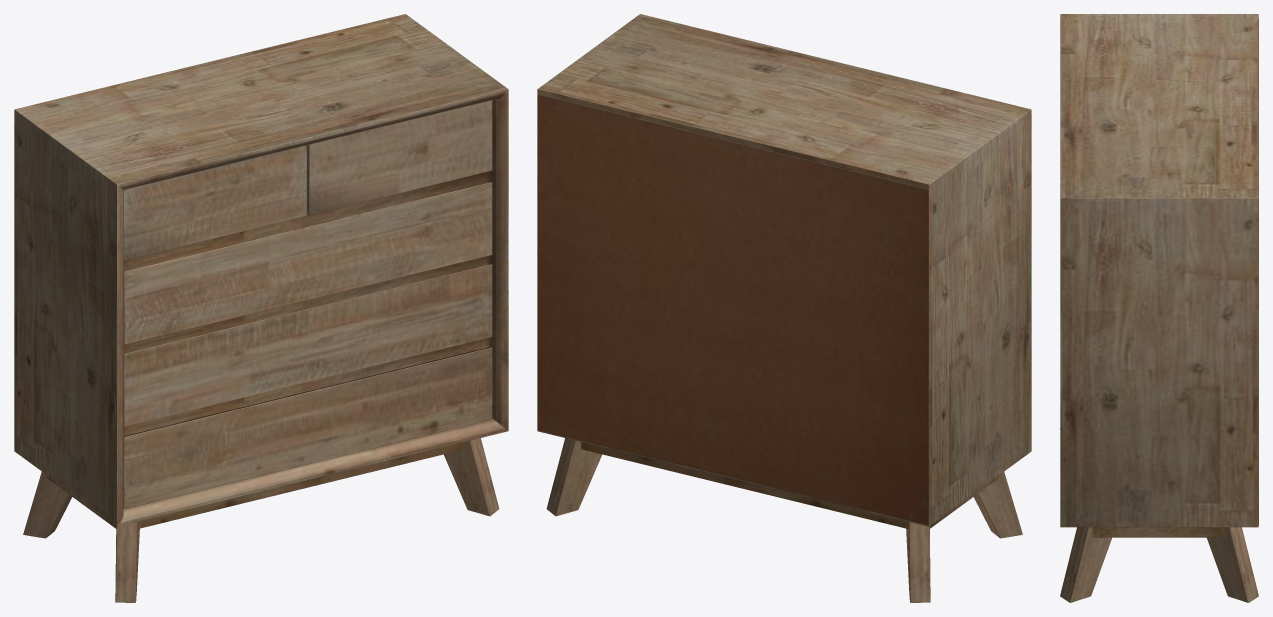
3 renders of one model, left to right at view 1: azimuth 30°, elevation 25°; view 2: azimuth 150°, elevation 25°; view 3: azimuth 270°, elevation 25°, orthographic. The views are drawn at different scales.
Visible parts, largest first — view 1: visual_RootNode; view 2: visual_RootNode; view 3: visual_RootNode.
Part boxes in pixels (box(x1,y1,x2,y2)): visual_RootNode: box(14, 14, 508, 602); visual_RootNode: box(537, 14, 1031, 602); visual_RootNode: box(1060, 14, 1258, 602).
Size of the model in its own units: 0.9978 by 0.4554 by 1.03.
Materials: 1 (1 with a texture image).
